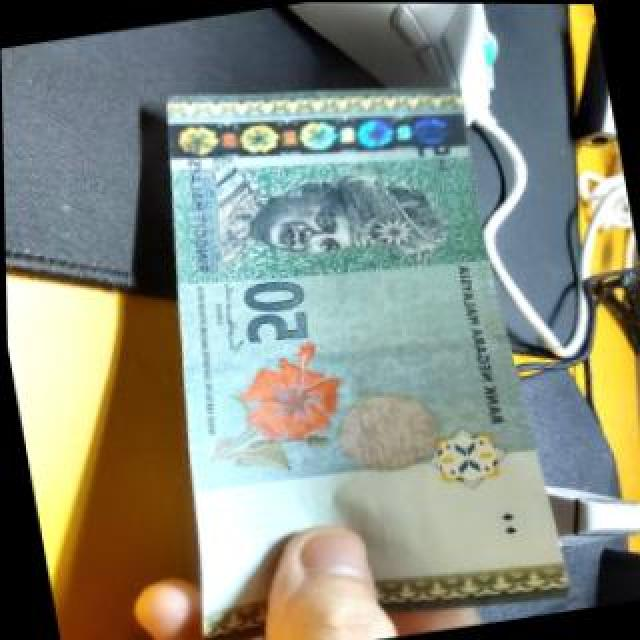50 Ringgit: (90, 34, 593, 639)
